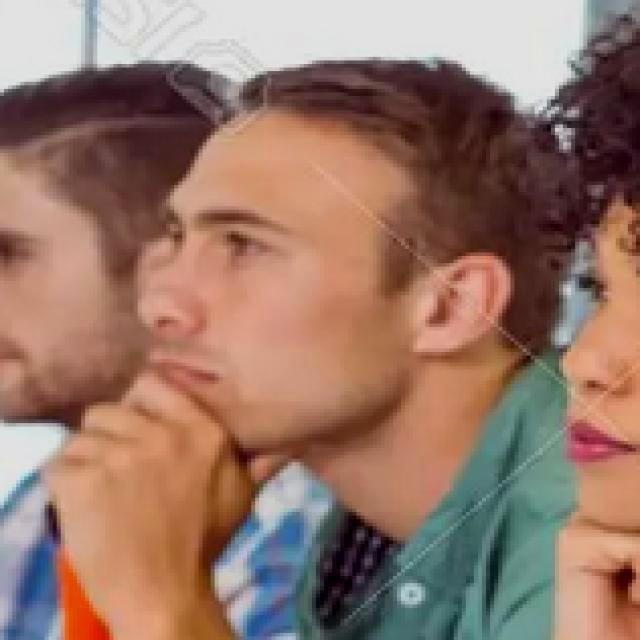Looking forward: (136, 113, 414, 456)
